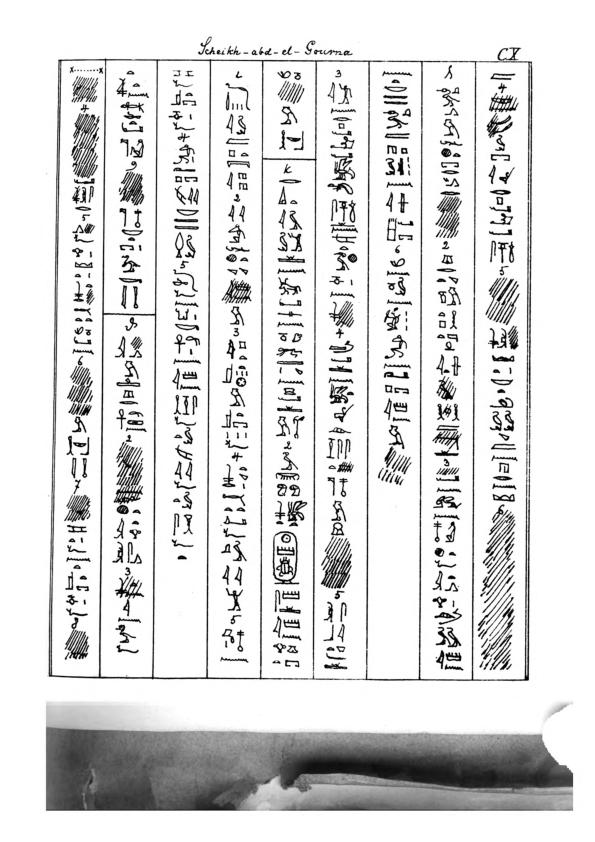circle: (269, 530, 302, 588)
